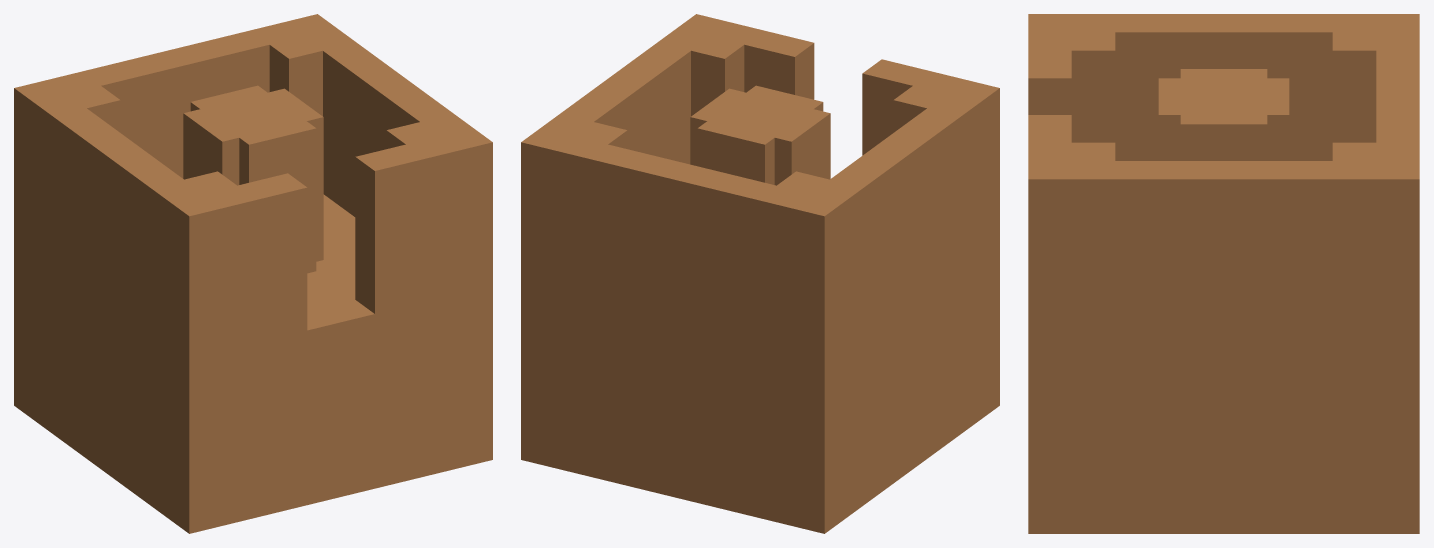
The model's file is Thick_End_Model.fbx.
The picture shows the model from 3 angles, left to right: view 1: azimuth 30°, elevation 25°; view 2: azimuth 150°, elevation 25°; view 3: azimuth 270°, elevation 25°; orthographic projection. The views are drawn at different scales.
Parts seen in each view (by area): view 1: Cube; view 2: Cube; view 3: Cube.
Boxes of the visible parts, <box> form: Cube: <box>14,14,492,533</box>; Cube: <box>521,14,999,533</box>; Cube: <box>1028,14,1419,533</box>.
Bounding box in the file's own units: 100 × 100 × 100.
